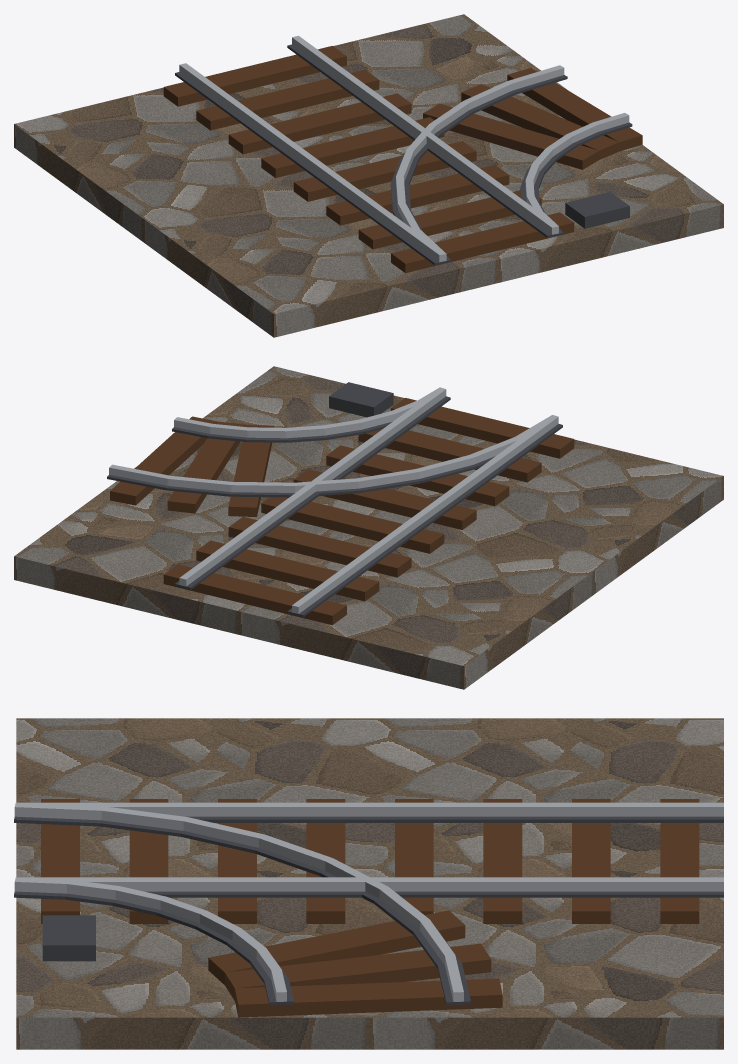
File: mine_floor_rails_junction.glb
The picture shows the model from 3 angles, top to bottom: view 1: azimuth 30°, elevation 25°; view 2: azimuth 150°, elevation 25°; view 3: azimuth 270°, elevation 25°; orthographic projection. The views are drawn at different scales.
Visible parts, largest first — view 1: mine_floor_rails_junction; view 2: mine_floor_rails_junction; view 3: mine_floor_rails_junction.
Part boxes in pixels (<box>): mine_floor_rails_junction: <box>14,14,723,337</box>; mine_floor_rails_junction: <box>14,366,723,689</box>; mine_floor_rails_junction: <box>14,718,723,1049</box>.
Size of what is drawn, in the model's own units: 4.01 by 0.36 by 4.01.
4 materials, 1 textured.
